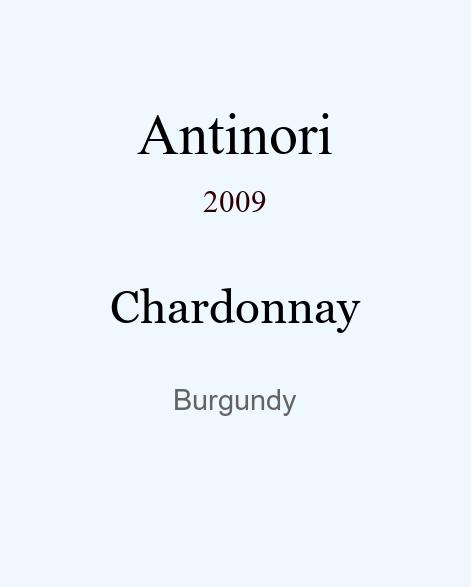brand: (137, 102, 333, 143)
region: (173, 383, 297, 410)
variety: (110, 280, 361, 325)
vintage: (203, 184, 267, 205)
